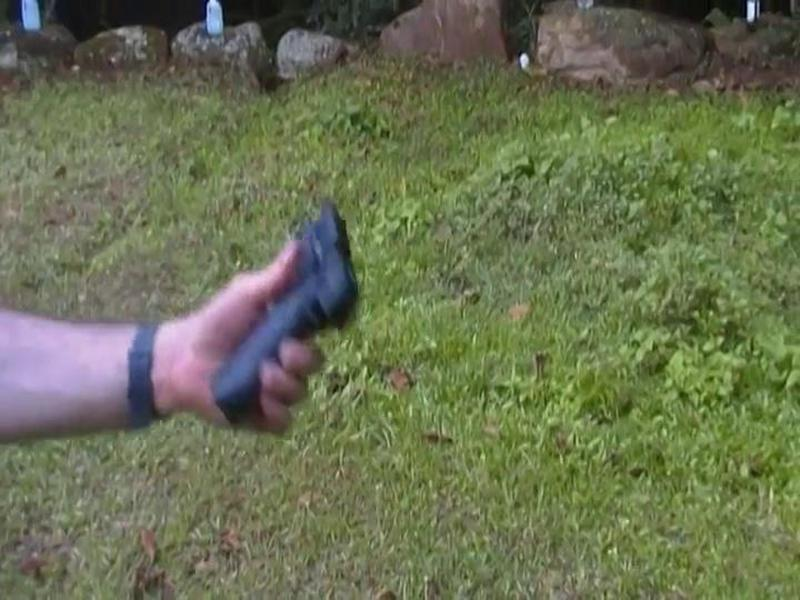Pistola: (152, 192, 380, 435)
